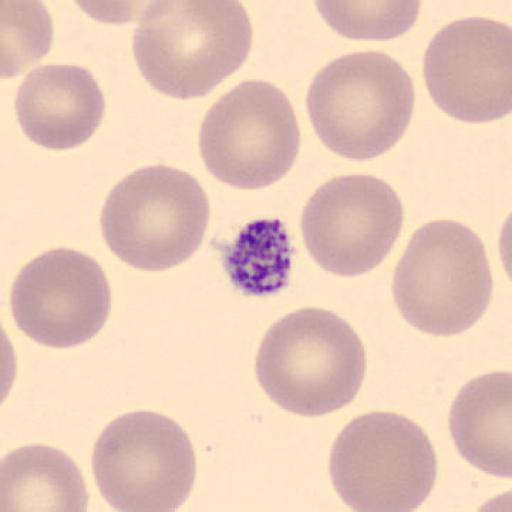Platelet: (218, 215, 300, 298)
RBC: (252, 306, 368, 420), (304, 48, 416, 164), (98, 162, 212, 274), (390, 217, 494, 339), (130, 0, 254, 102), (197, 77, 302, 192), (298, 170, 406, 280), (88, 407, 198, 512), (327, 410, 440, 512), (9, 246, 113, 352), (421, 16, 512, 126), (12, 60, 106, 154), (448, 368, 512, 480), (1, 440, 90, 512), (312, 0, 423, 42), (2, 0, 56, 82), (67, 0, 168, 25), (0, 324, 18, 408), (498, 197, 512, 298), (496, 208, 512, 286), (471, 486, 512, 512)
